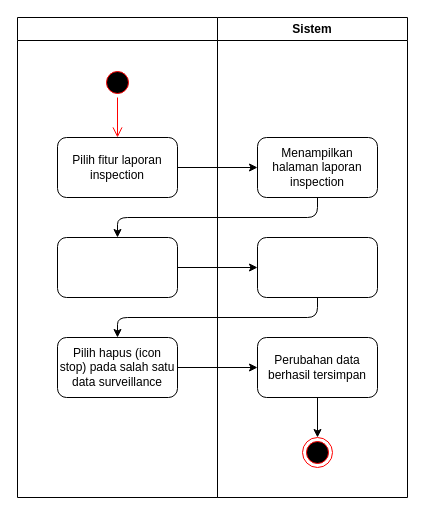
The diagram is 425 pixels wide and 515 high, and some of its shapes have lost their labels. Each missing label, with the box of its shape:
Menampilkan halaman surveillance: (256, 236, 378, 298)
Pilih detail (icon settings) pada salah satu data laporan inspection: (56, 236, 178, 298)
User: (16, 16, 218, 498)
